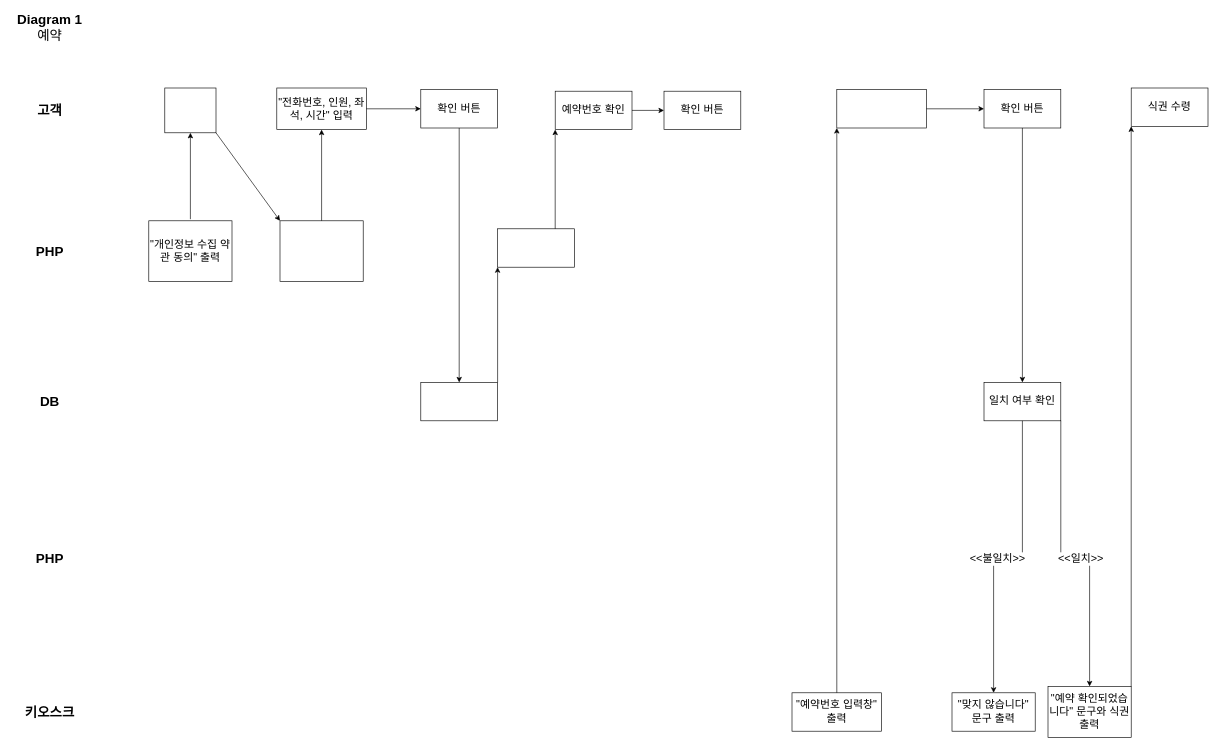
This 1219x749 diagram has some shape labels left out. The centre of each missing label's shape, as x and y in pixels:
"입력 화면" 출력: the point at 321,251
데이터 저장: the point at 459,401
동의: the point at 190,110
예약 번호 키오스크에 입력: the point at 881,108
예약번호 생성, 출력: the point at 535,247
